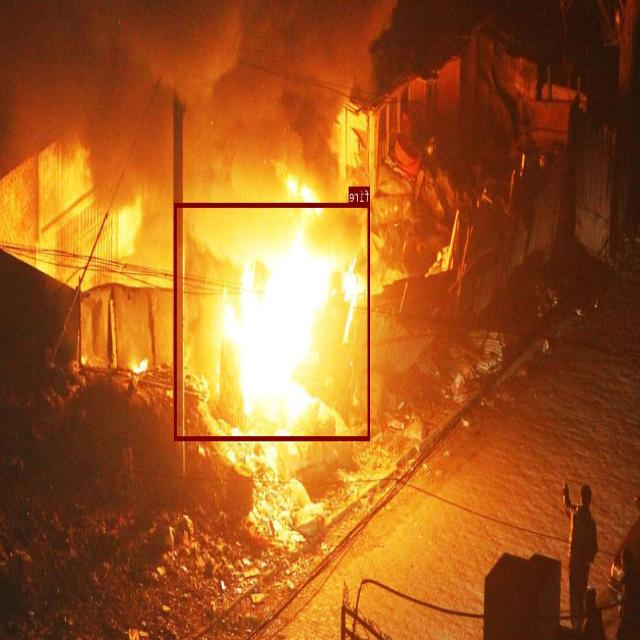fire: (175, 202, 371, 440)
